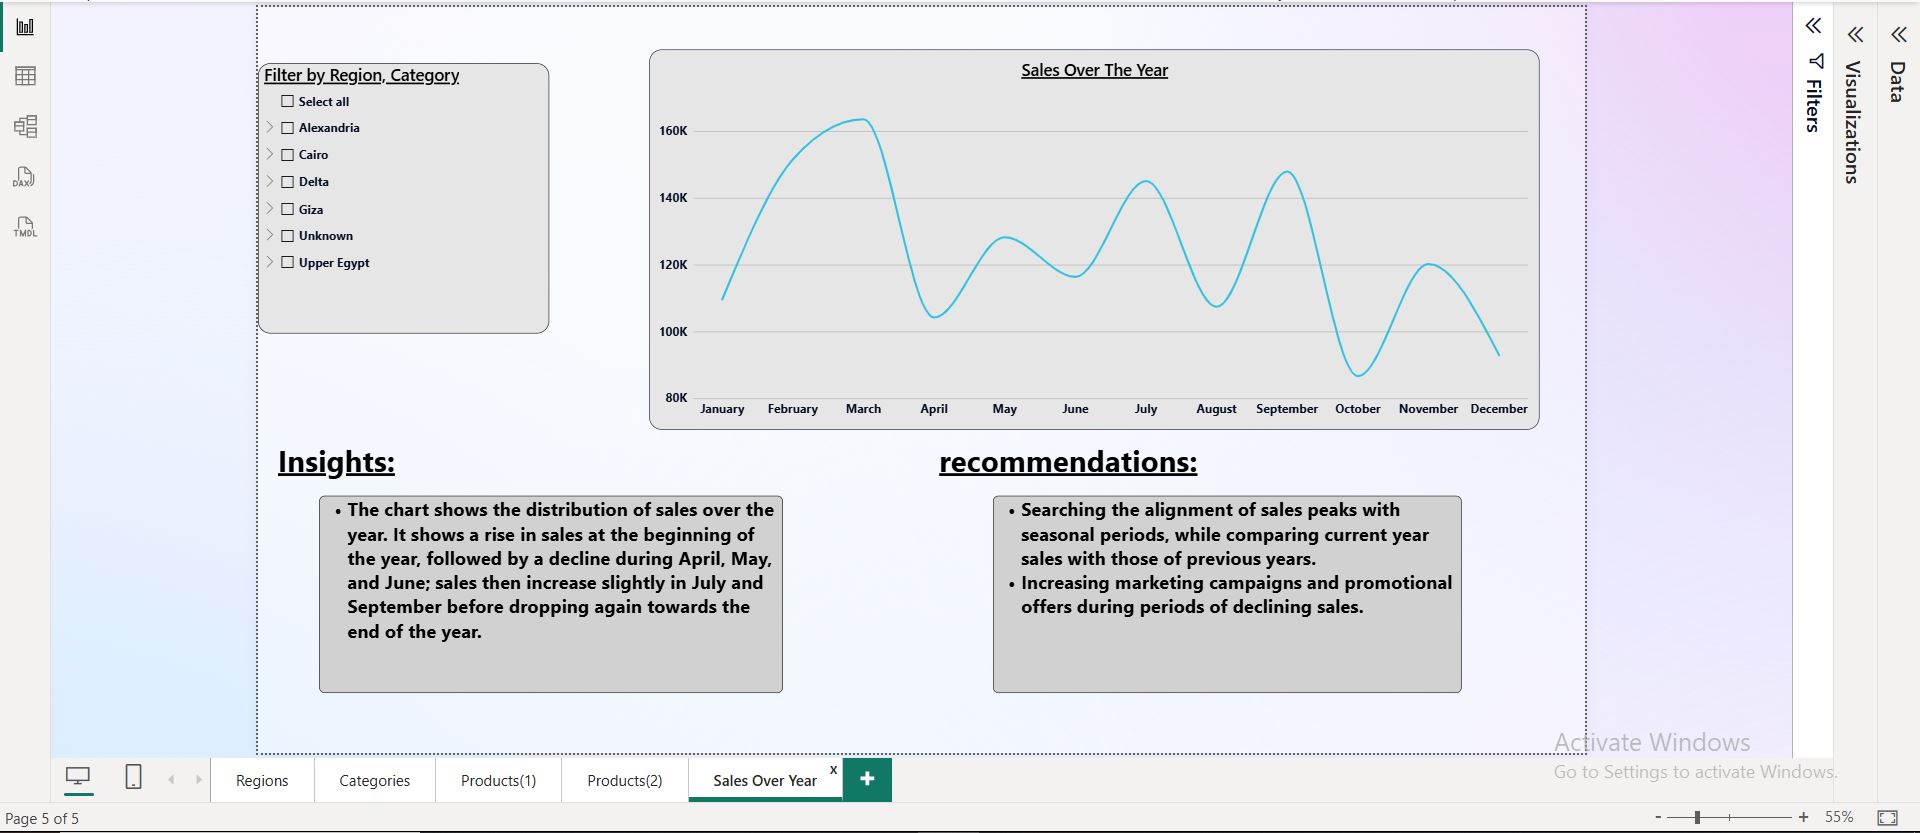

The page's visual inventory and layout, read from the dashboard file:
{"tool":"powerbi","page":{"name":"Sales Over Year","canvas":[1920,1080],"ordinal":4},"visuals":[{"type":"lineChart","title":"Sales Over The Year","fields":{"Y":["Sum(Sheet1.Sales)"],"Category":["Sheet1.Date.Variation.Date Hierarchy.Month"]},"box":[566.4,61.5,1288.5,550.1],"z":0},{"type":"slicer","fields":{"Values":["Sheet1.Region","Sheet1.Category"]},"box":[0,81.4,421.7,390.9],"z":1000},{"type":"textbox","box":[29,626.1,247.9,95.9],"z":2000},{"type":"textbox","box":[88.7,707.6,671.4,285.9],"z":3000},{"type":"textbox","box":[986.3,626.1,418,81.4],"z":4000},{"type":"textbox","box":[1064.1,707.6,678.6,285.9],"z":5000}]}

Visuals, with their boxes on the page's 1920x1080 design canvas (x1, y1, x2, y2). These are canvas units, not pixel positions in the 1920x833 screenshot, which may show the page scaled, cropped or inside an application window:
"Sales Over The Year" lineChart: [left=566, top=62, right=1855, bottom=612]
slicer - Sheet1.Region x Sheet1.Category: [left=0, top=81, right=422, bottom=472]
textbox: [left=29, top=626, right=277, bottom=722]
textbox: [left=89, top=708, right=760, bottom=994]
textbox: [left=986, top=626, right=1404, bottom=708]
textbox: [left=1064, top=708, right=1743, bottom=994]
